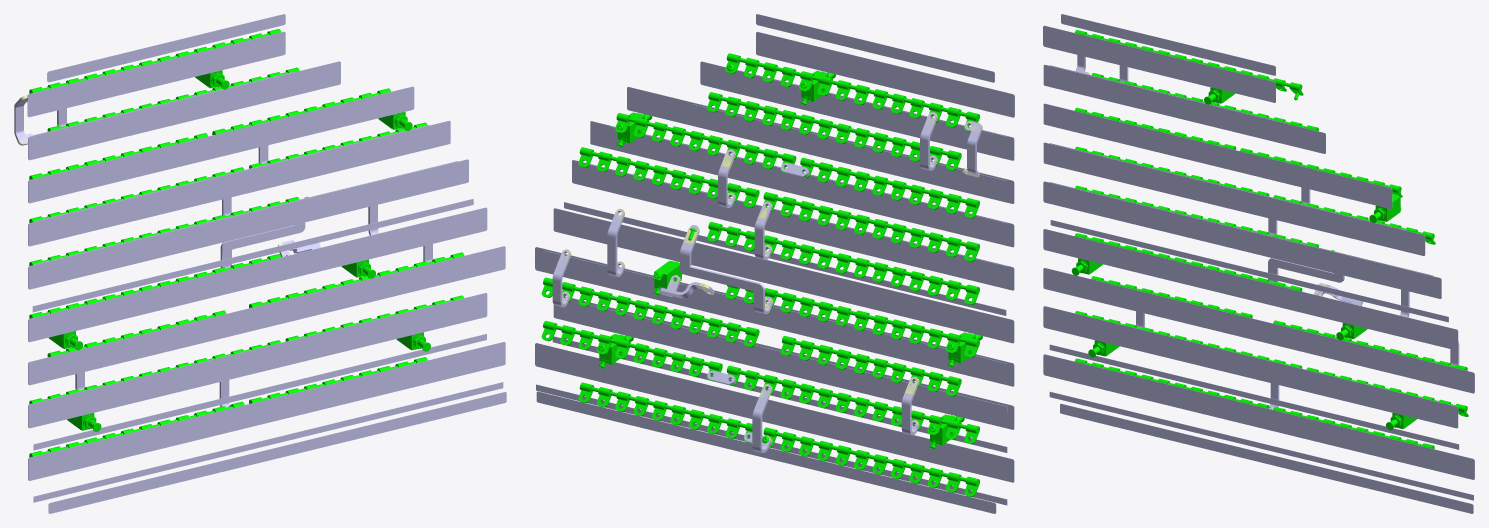
The picture shows the model from 3 angles, left to right: view 1: azimuth 30°, elevation 25°; view 2: azimuth 150°, elevation 25°; view 3: azimuth 330°, elevation 25°; orthographic projection. The views are drawn at different scales.
Parts seen in each view (by area): view 1: PartBody (×30); view 2: PartBody (×44); view 3: PartBody (×30).
Part boxes in pixels (bbox=[...]): PartBody (×30): bbox=[27, 14, 506, 513]; PartBody (×44): bbox=[535, 14, 1014, 513]; PartBody (×30): bbox=[1043, 14, 1474, 513].
Bounding box in the file's own units: 22.83 × 20.17 × 3.44.
